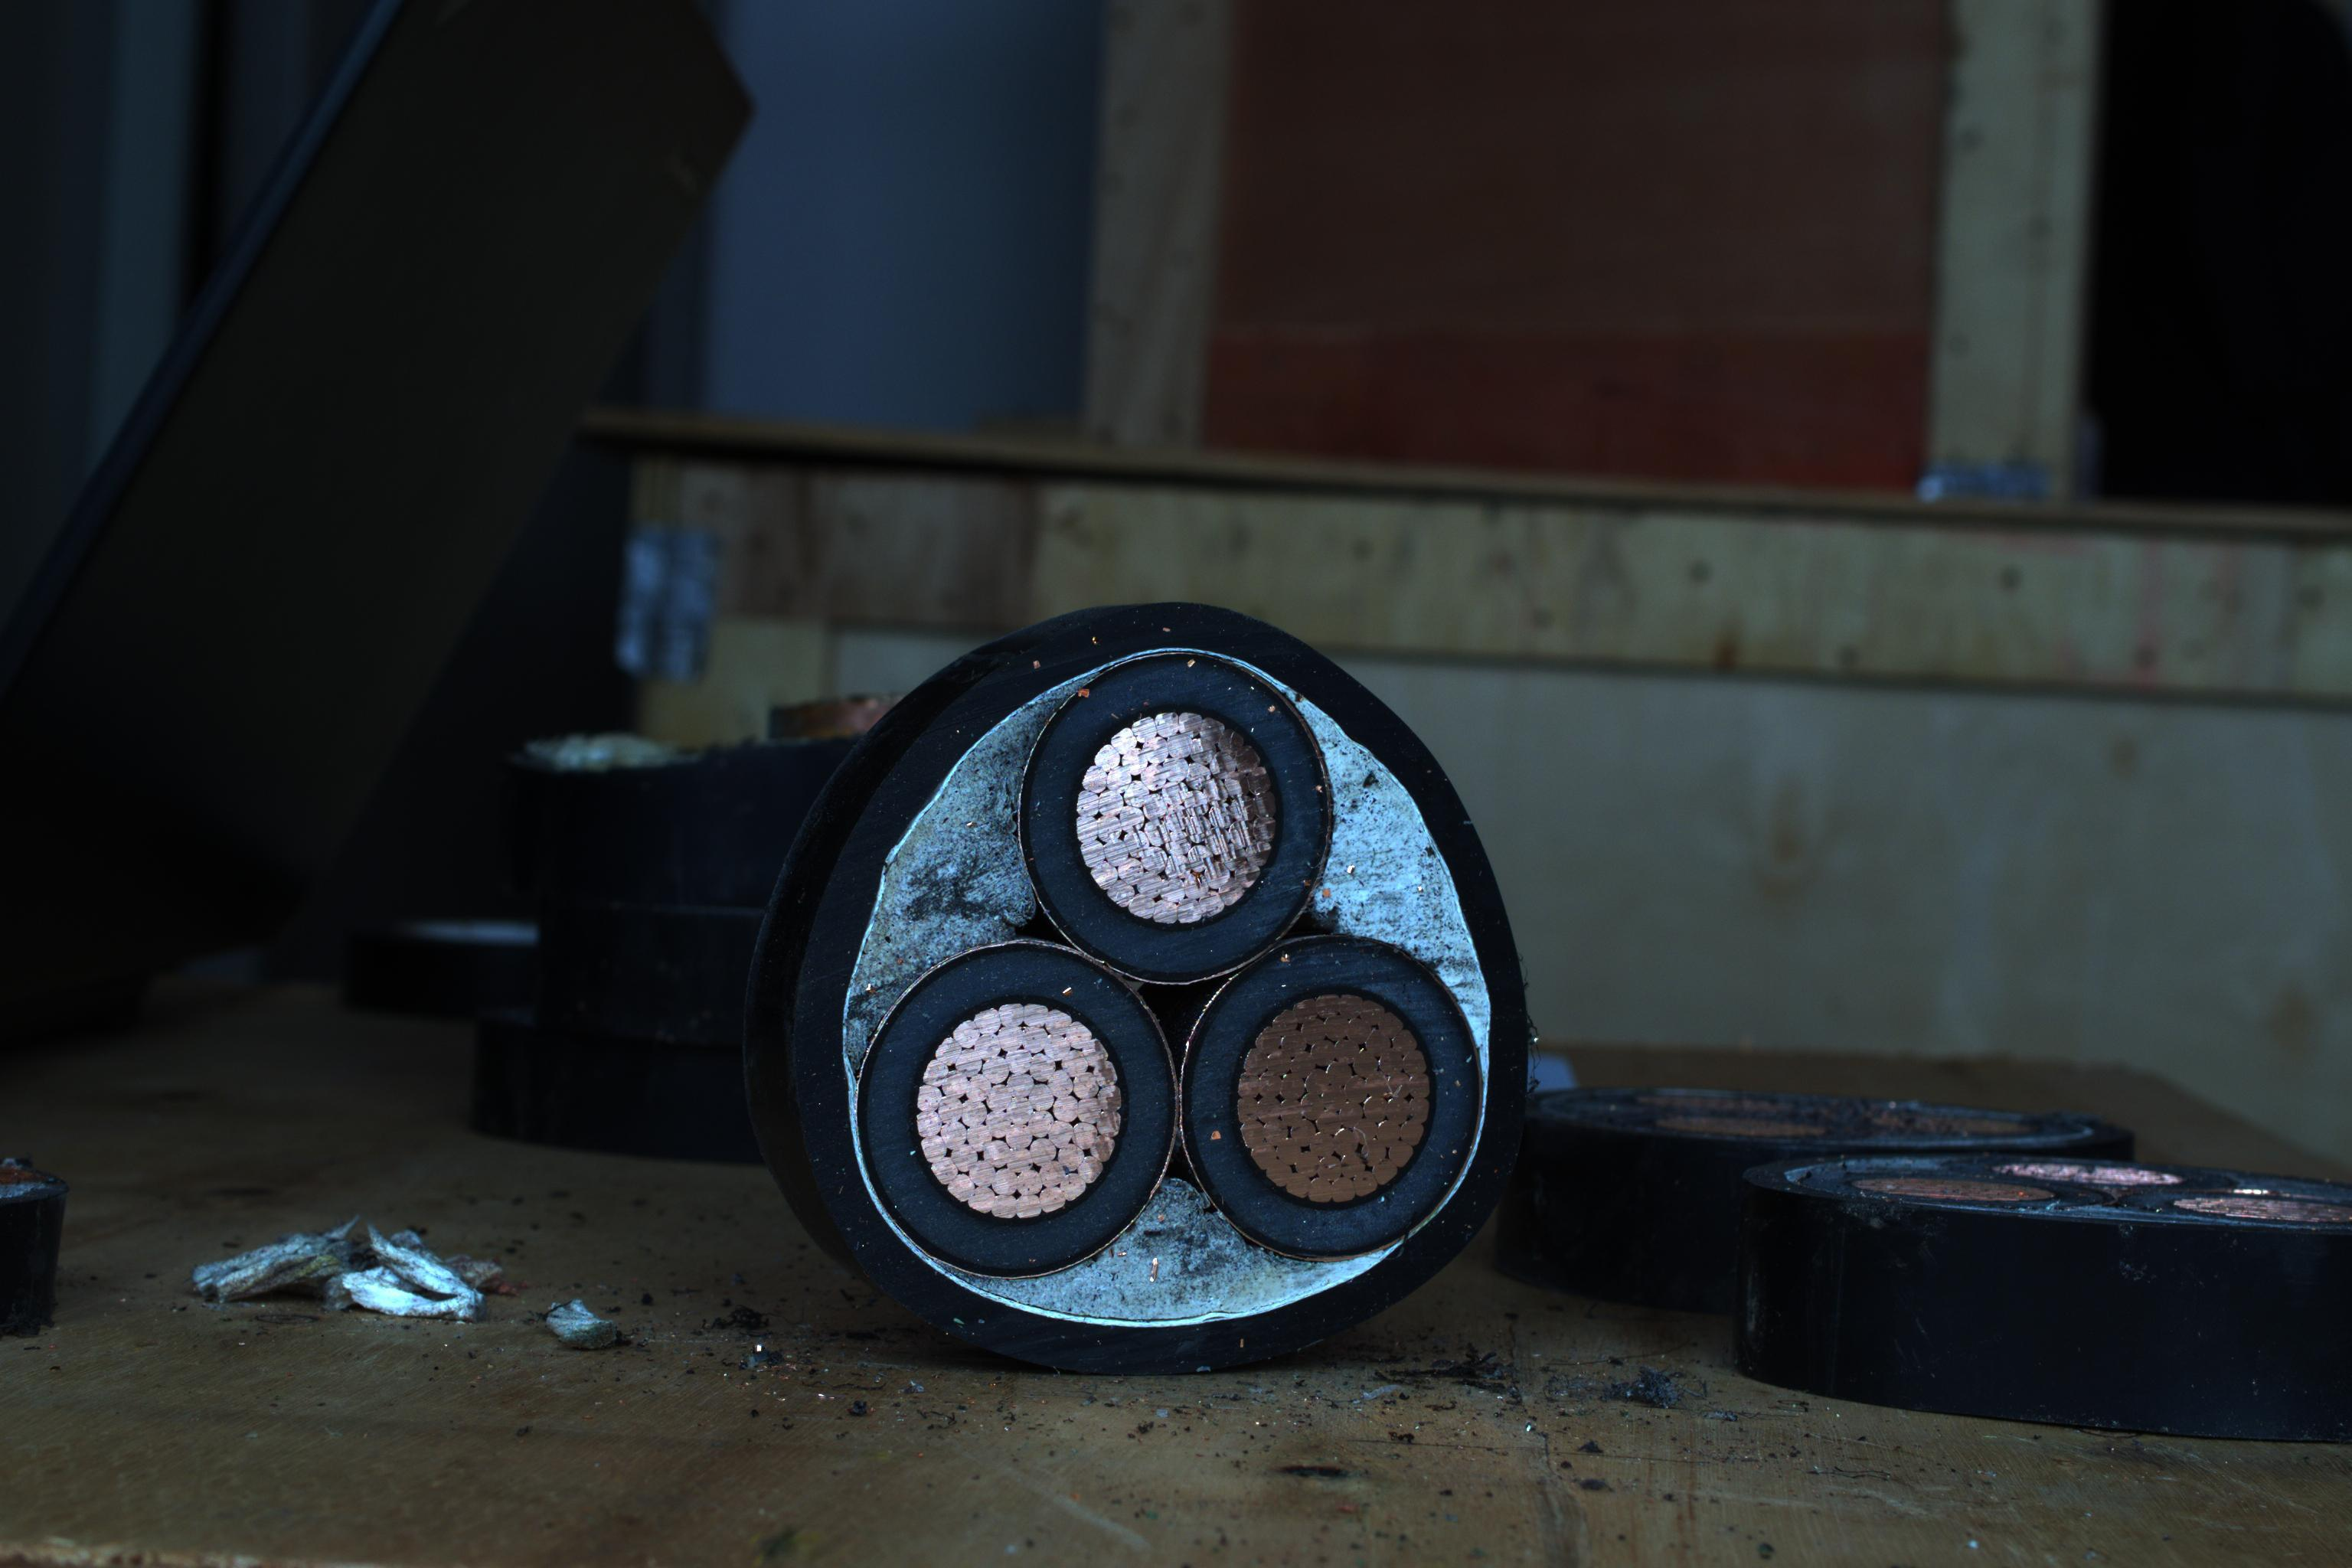ZA_YJV_8.7_10kV_3x400: (766, 593, 1540, 1372)
